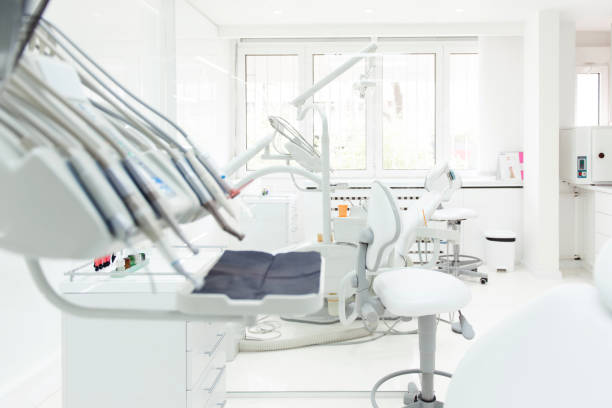chair: (349, 176, 475, 408), (428, 207, 489, 286)
handle: (201, 324, 227, 358), (207, 365, 226, 392)
waste_bin: (485, 233, 515, 273)
